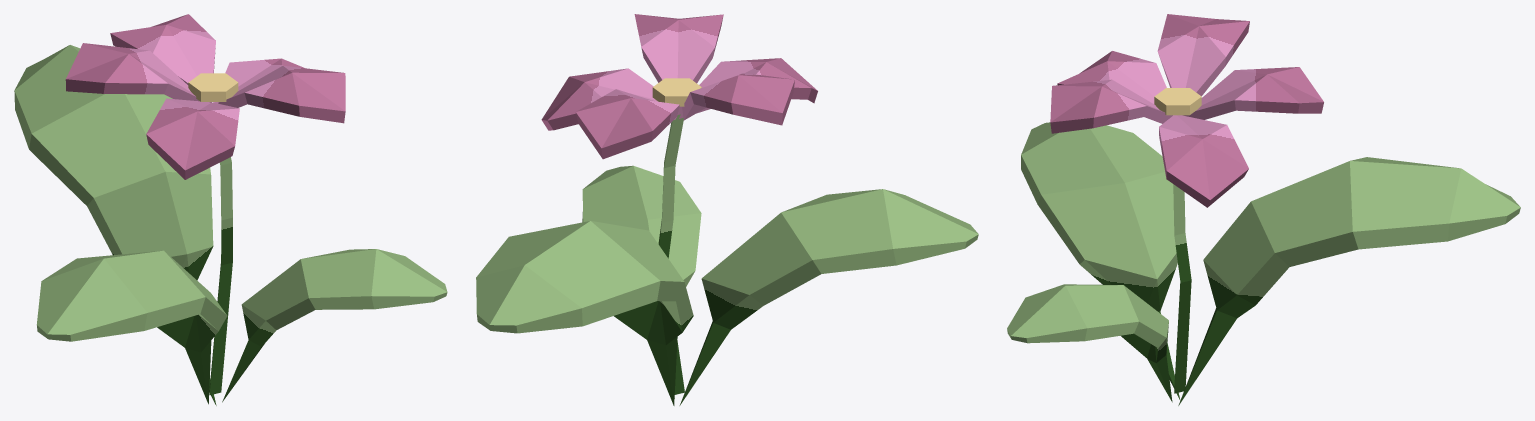
The model's file is PinkFlower.glb.
The picture shows the model from 3 angles, left to right: view 1: azimuth 30°, elevation 25°; view 2: azimuth 150°, elevation 25°; view 3: azimuth 270°, elevation 25°; orthographic projection. The views are drawn at different scales.
Visible parts, largest first — view 1: Tree.064; view 2: Tree.064; view 3: Tree.064.
Part boxes in pixels (box(x1,y1,x2,y2)): Tree.064: box(14, 14, 447, 405); Tree.064: box(476, 14, 978, 405); Tree.064: box(1007, 14, 1520, 405).
Size of the model in its own units: 0.5125 by 0.4589 by 0.619.
1 material, 1 textured.
